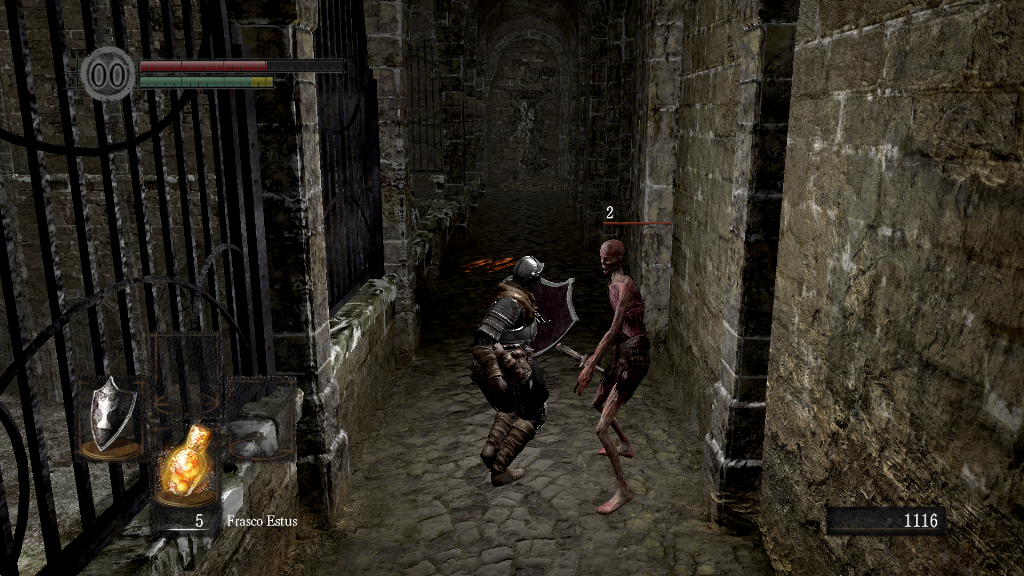health: (138, 58, 343, 71)
hollow: (576, 236, 656, 519)
humanity: (80, 45, 136, 102)
player: (466, 254, 579, 486)
souls: (825, 506, 945, 536)
stamina: (138, 74, 274, 88)
